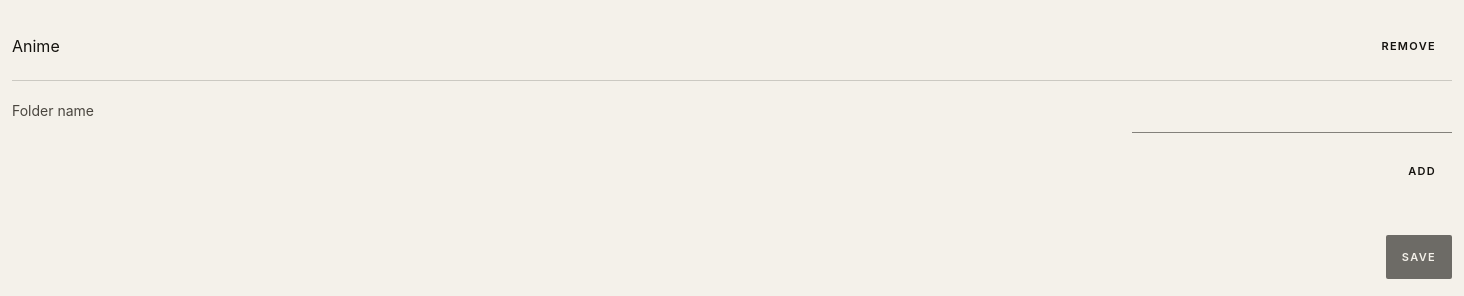
Scenario: AnimeFolders › confirms a re-sort that finishes before Save returns
Click the button with aria-label "Remove Anime": click(1409, 46) [1365,24,1452,68]
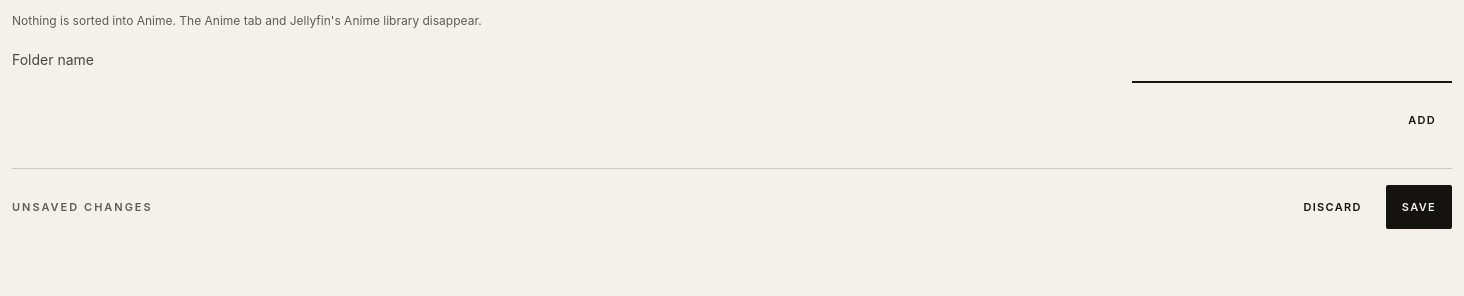
Click the button "Save": click(1419, 207) [1386,185,1452,229]
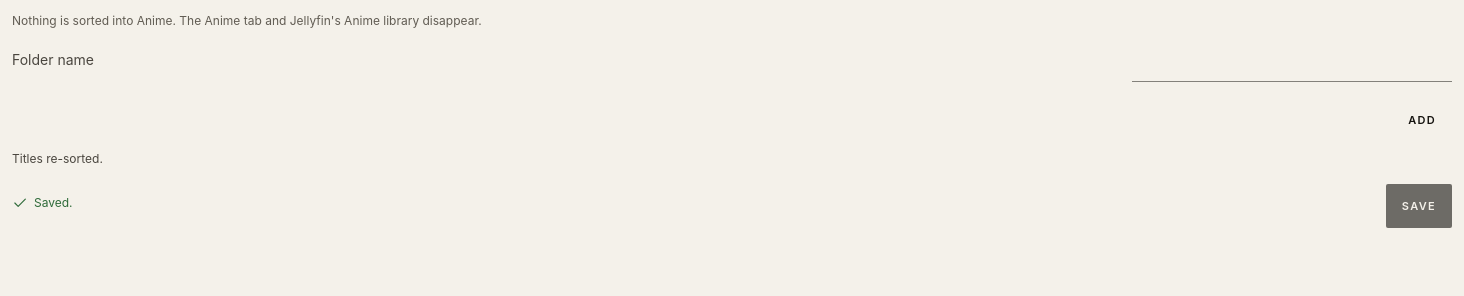
Expected: the text "Titles re-sorted." is shown, [12,151,103,166]
